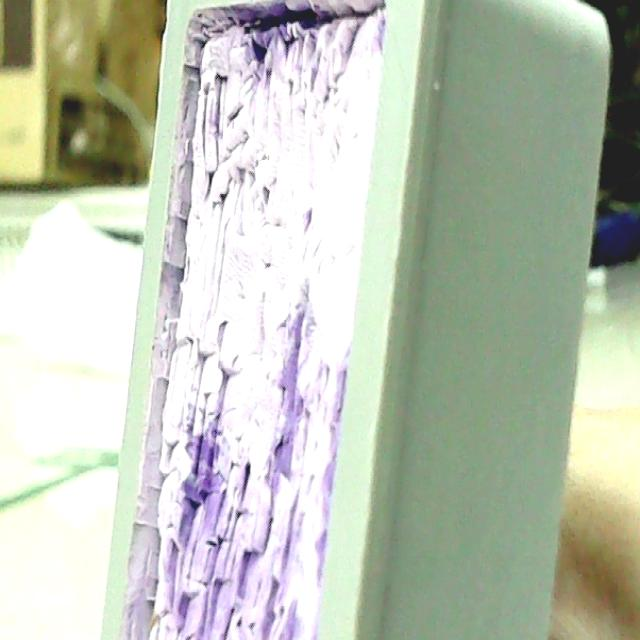block: (94, 0, 616, 640)
